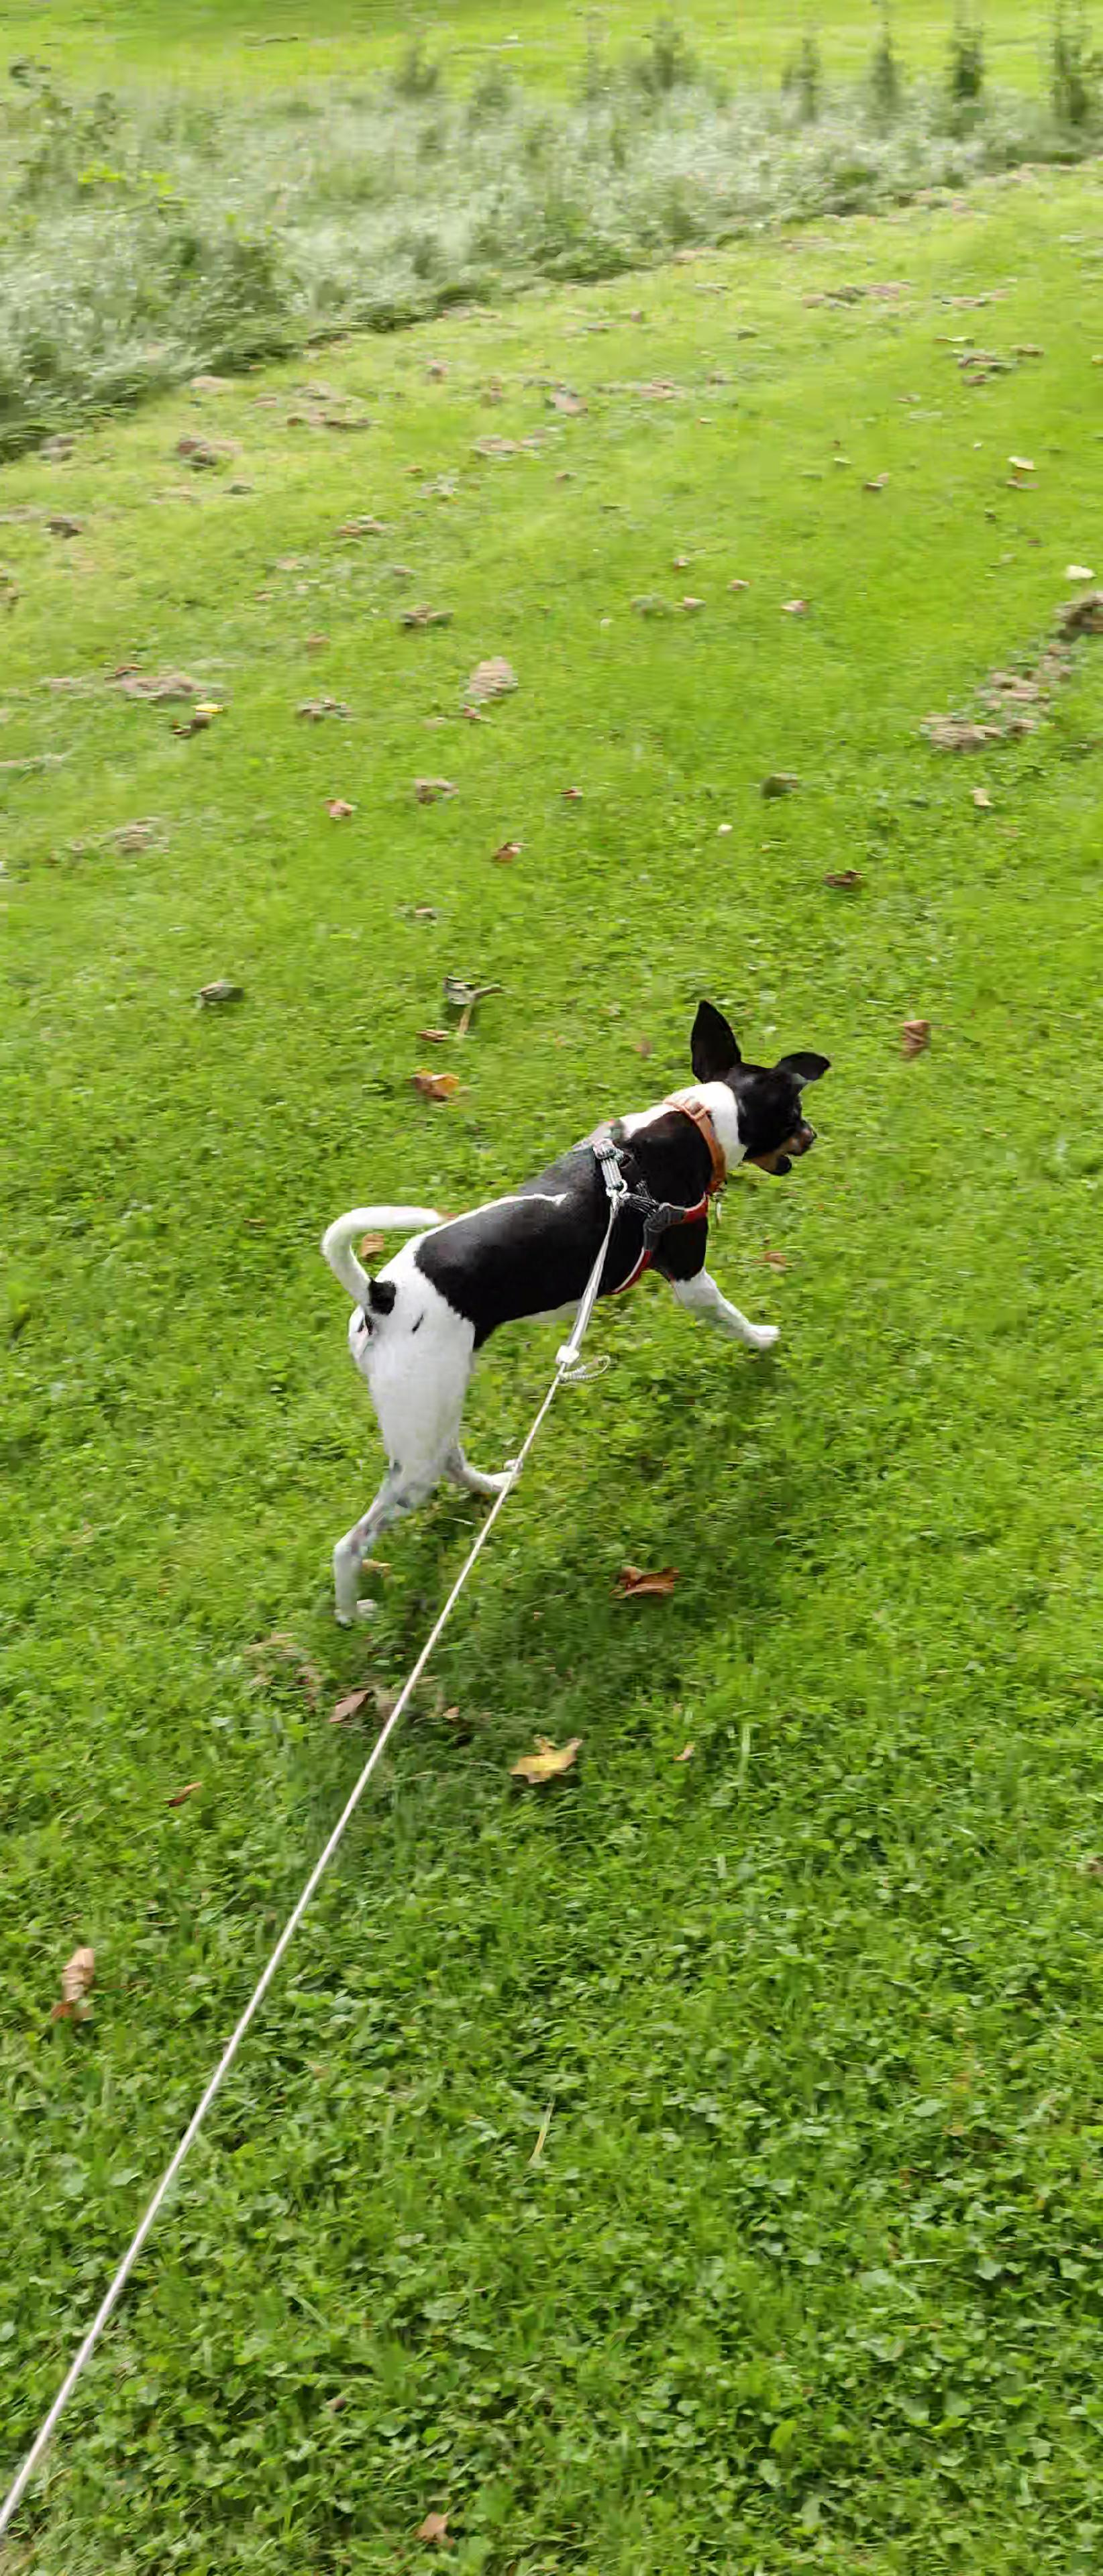Dog: (296, 992, 848, 1649)
